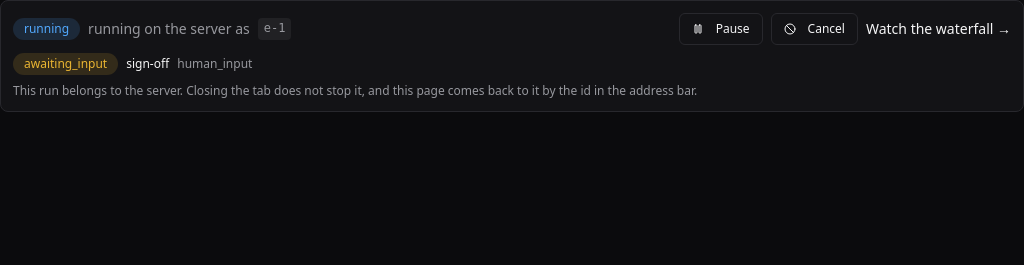
answering a step that is waiting on a person › says nothing about a deadline on a gate that waits as long as it takes
This screenshot has width=1024, height=265.
Click the button "awaiting_input sign-off human_input".
click(66, 64)  # box [13,53,1011,75]
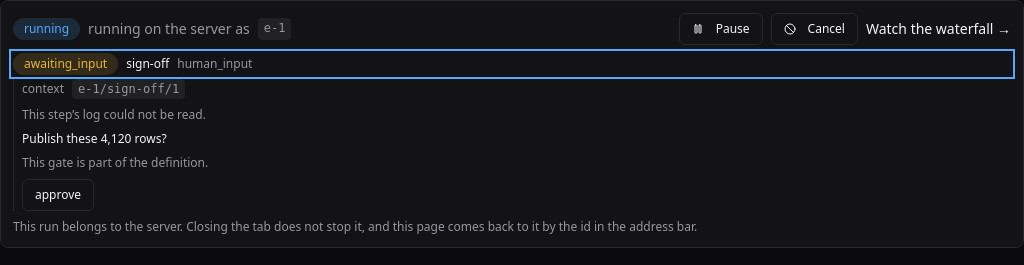
Expected: the button "approve" is shown, [22,179,94,211]
